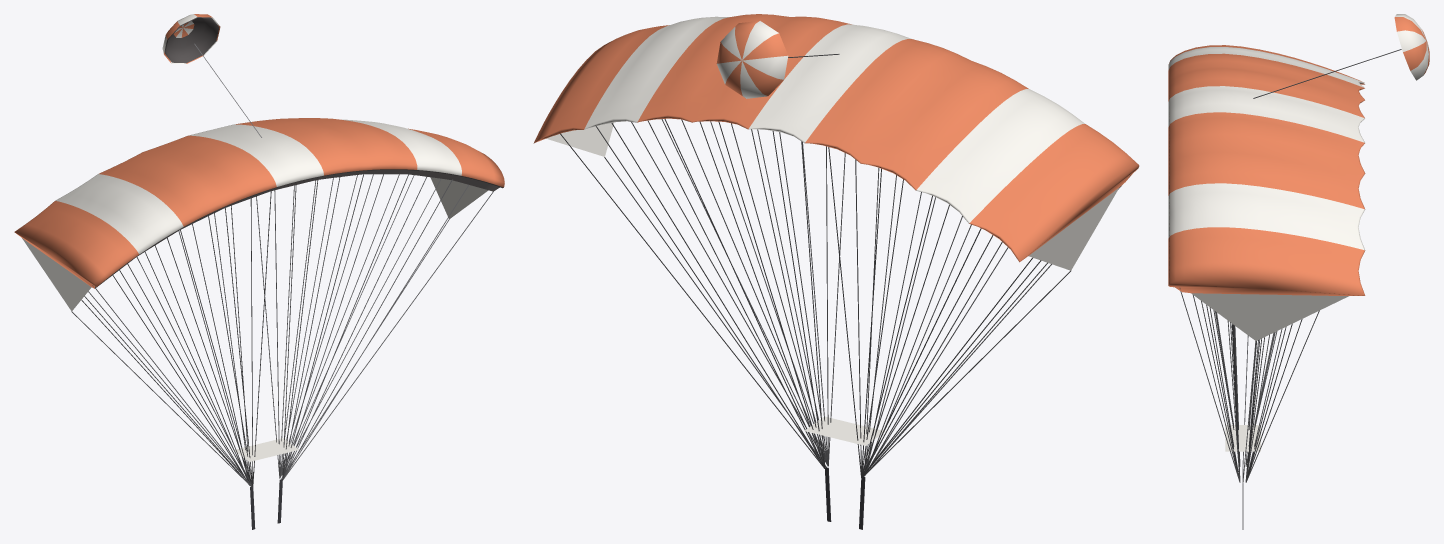
The model's file is paracaidas.glb.
3 renders of one model, left to right at view 1: azimuth 30°, elevation 25°; view 2: azimuth 150°, elevation 25°; view 3: azimuth 270°, elevation 25°, orthographic. The views are drawn at different scales.
Visible parts, largest first — view 1: Paracaidas; view 2: Paracaidas; view 3: Paracaidas.
Boxes of the visible parts, left/top/right/bottom form: Paracaidas: left=14, top=14, right=504, bottom=529; Paracaidas: left=533, top=14, right=1139, bottom=529; Paracaidas: left=1168, top=14, right=1429, bottom=529.
Size of the model in its own units: 5.4 by 5.63 by 2.64.
